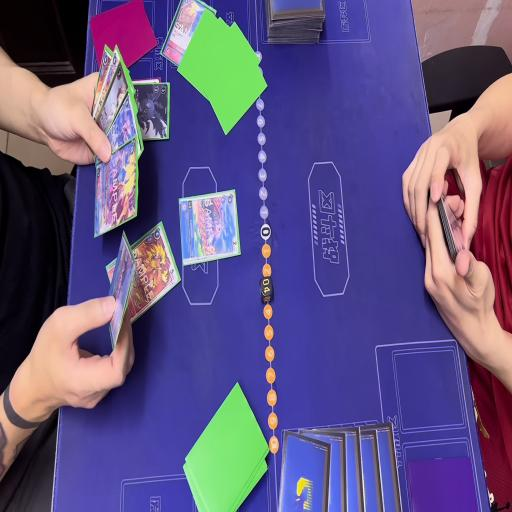card: (104, 224, 178, 326), (92, 136, 142, 240), (178, 188, 244, 266), (94, 90, 142, 182), (106, 238, 140, 358), (160, 1, 217, 71), (87, 62, 128, 149), (88, 46, 120, 124), (133, 82, 171, 139)
